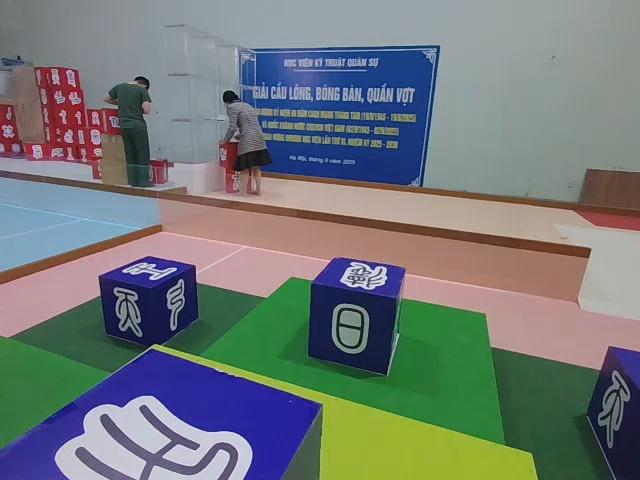R2 Fake Blue: (0, 344, 327, 480), (306, 258, 406, 379), (98, 255, 199, 346), (587, 349, 640, 480)
